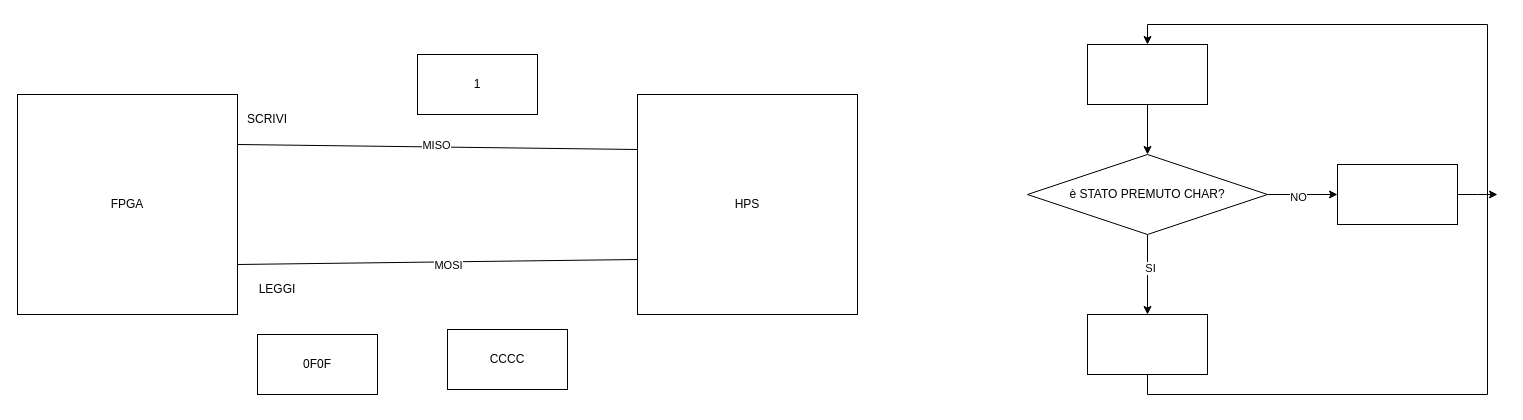
The diagram is 1523 pixels wide and 420 high, and some of its shapes have lost their labels. The shapes that lost their labels are listed below. From the top down, each one's centre as x and y in pixels, then its label:
At point 1147,74: "RICEVO CCCC".
At point 1397,194: "MANDA INDIETRO CCCC".
At point 1147,344: "MANDA CODICE CARATTERE".
